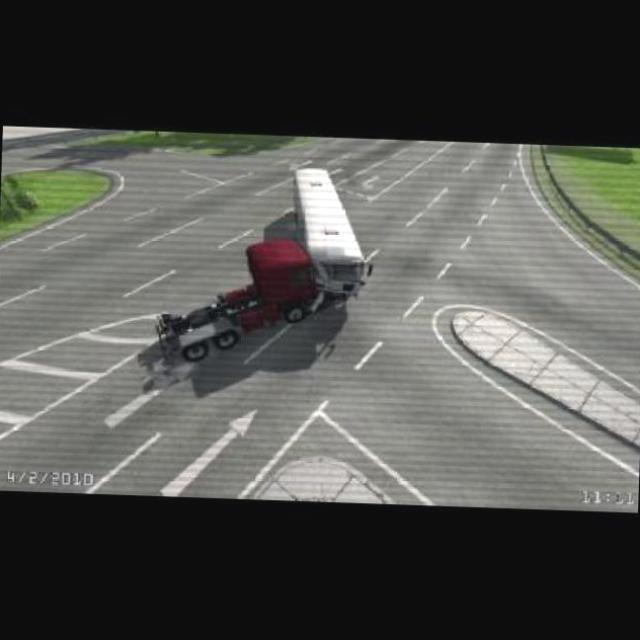accident: (250, 244, 370, 318)
